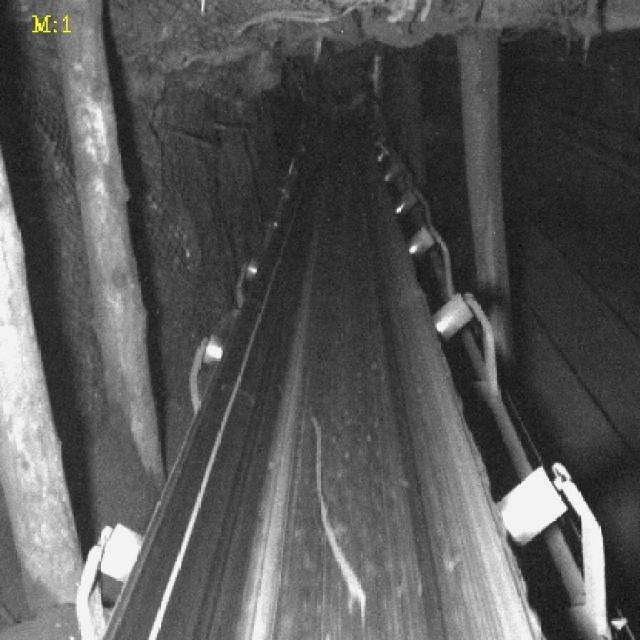bolt: (309, 412, 374, 620)
